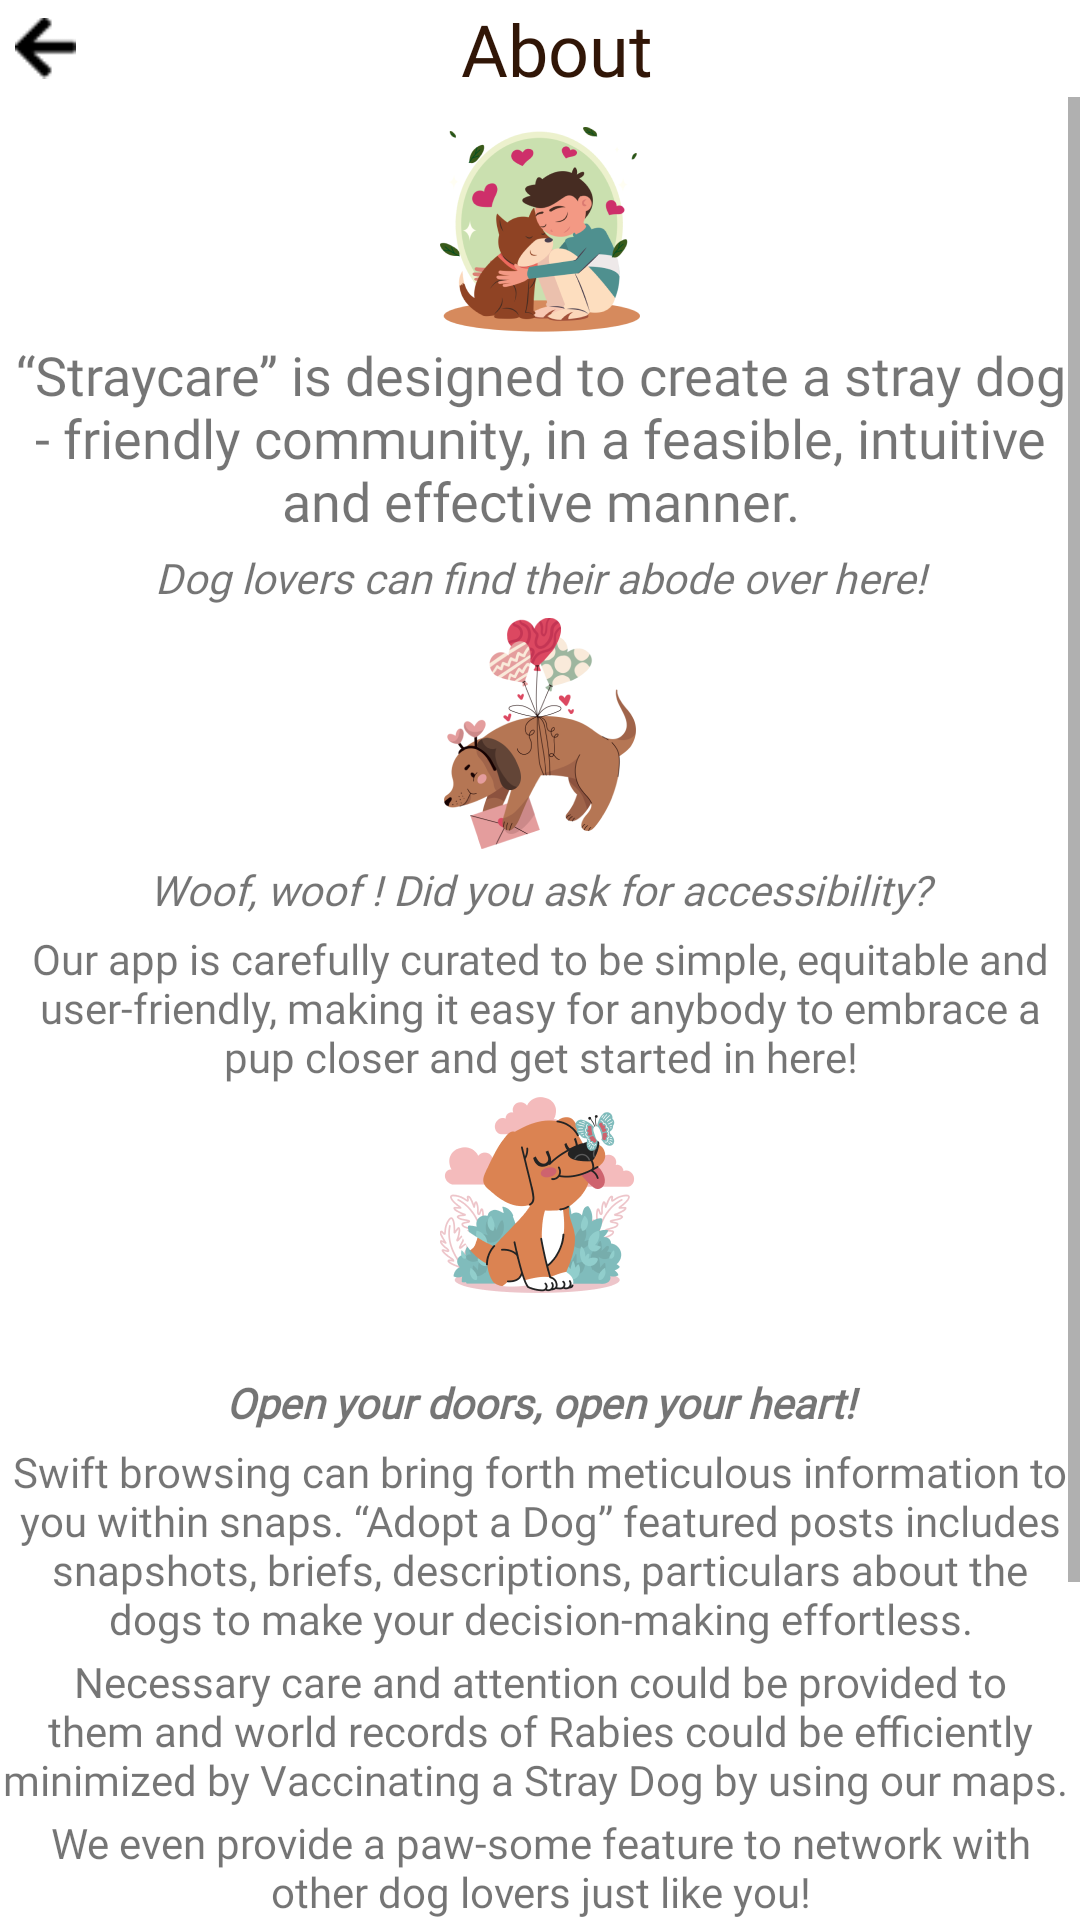

Icon bounding boxes for this 1080*1920 phone screenshot, format (x1, y1, x2, y2):
backarrow: (15, 18, 76, 79)
